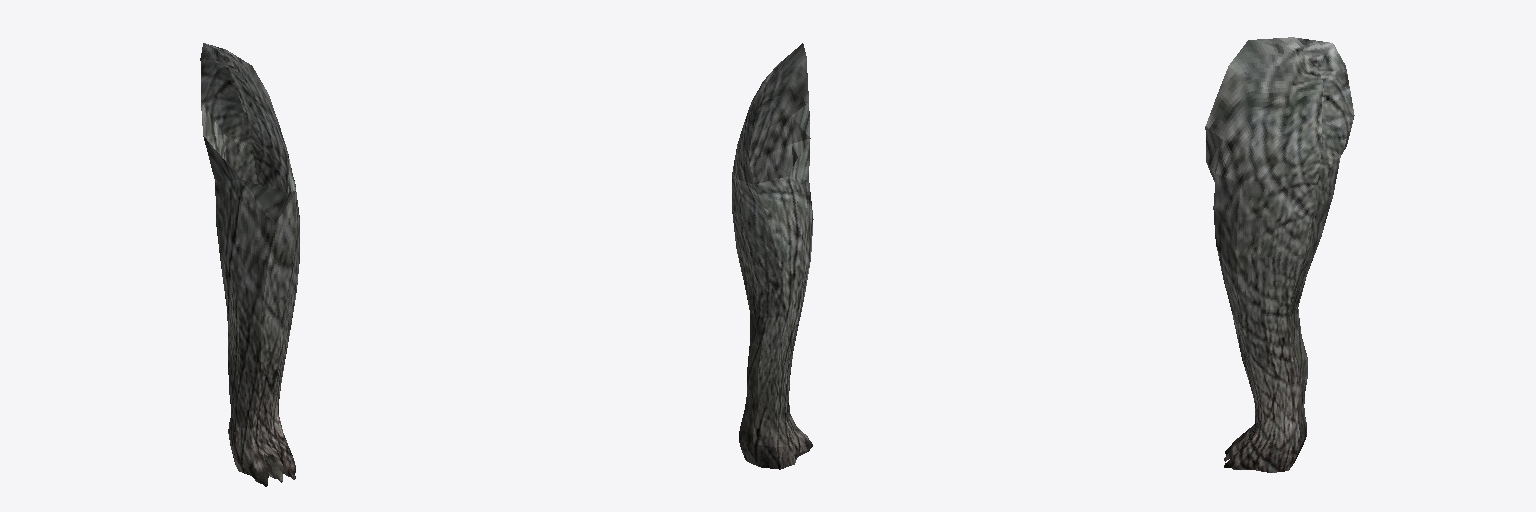
The picture shows the model from 3 angles: view 1: azimuth 30°, elevation 25°; view 2: azimuth 150°, elevation 25°; view 3: azimuth 270°, elevation 25°; orthographic projection.
Visible parts, largest first — view 1: PiernaTI; view 2: PiernaTI; view 3: PiernaTI.
Part boxes in pixels (x1,y1,x2,y2): PiernaTI: (200,43,299,486); PiernaTI: (732,43,813,469); PiernaTI: (1205,37,1354,472).
Bounding box in the file's own units: 0.4802 × 3.43 × 1.12.
Materials: 1 (1 with a texture image).